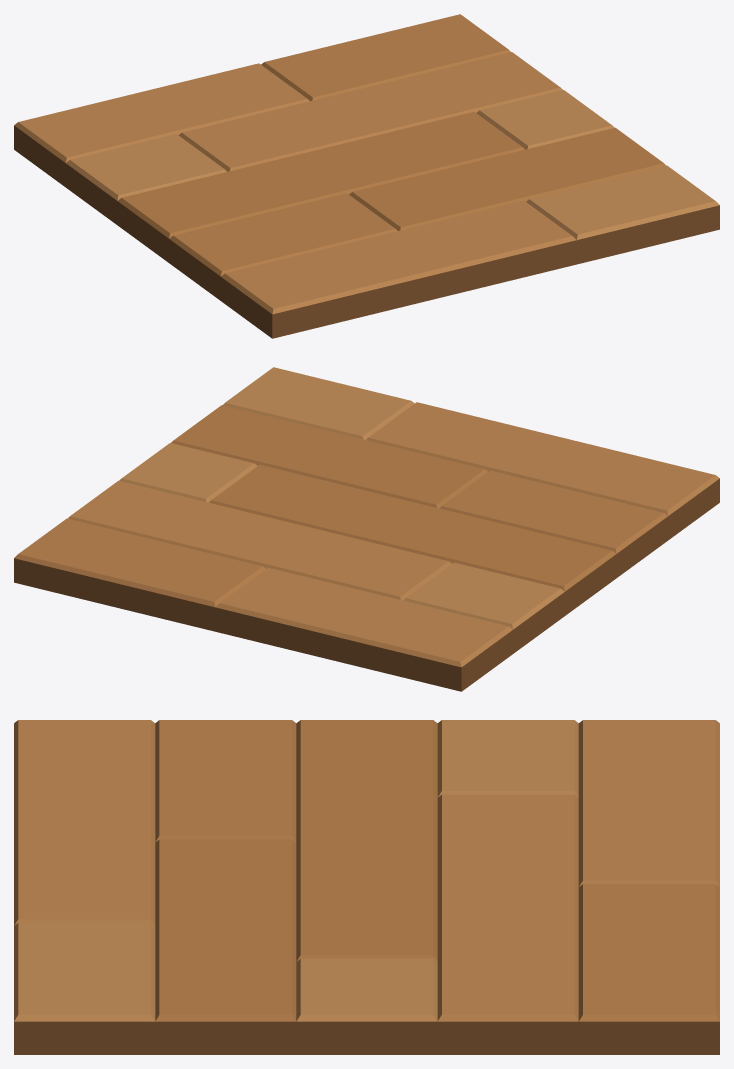
File: wg_boden_flur_a.glb
The picture shows the model from 3 angles, top to bottom: view 1: azimuth 30°, elevation 25°; view 2: azimuth 150°, elevation 25°; view 3: azimuth 270°, elevation 25°; orthographic projection. The views are drawn at different scales.
Parts seen in each view (by area): view 1: wg_boden_flur_a; view 2: wg_boden_flur_a; view 3: wg_boden_flur_a.
Part boxes in pixels (x1,y1,x2,y2): wg_boden_flur_a: (14,14,719,338); wg_boden_flur_a: (14,367,719,691); wg_boden_flur_a: (14,720,719,1054).
Size of the model in its own units: 1 by 0.06 by 1.
